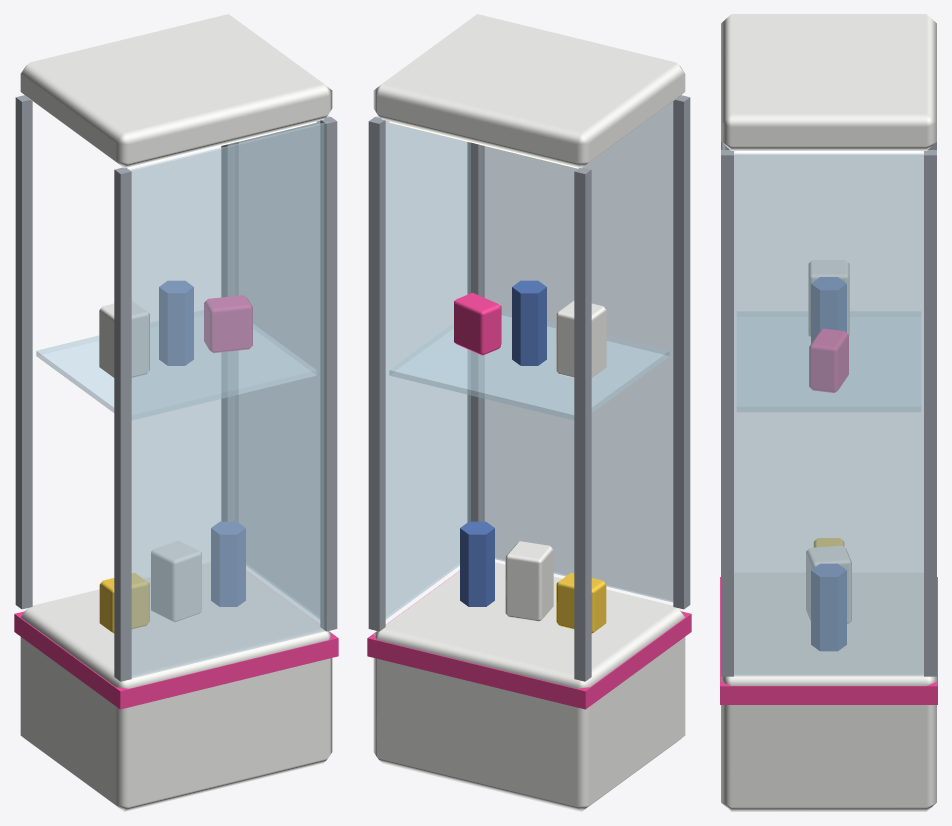
The model's file is station_special_ausstattung_2_2.glb.
The picture shows the model from 3 angles, left to right: view 1: azimuth 30°, elevation 25°; view 2: azimuth 150°, elevation 25°; view 3: azimuth 270°, elevation 25°; orthographic projection. The views are drawn at different scales.
Parts seen in each view (by area): view 1: station_special_ausstattung_2_2; view 2: station_special_ausstattung_2_2; view 3: station_special_ausstattung_2_2.
Boxes of the visible parts, left/top/right/bottom form: station_special_ausstattung_2_2: left=14, top=14, right=338, bottom=811; station_special_ausstattung_2_2: left=367, top=14, right=691, bottom=811; station_special_ausstattung_2_2: left=720, top=14, right=937, bottom=811.
Size of the model in its own units: 0.504 by 1.5 by 0.424.
